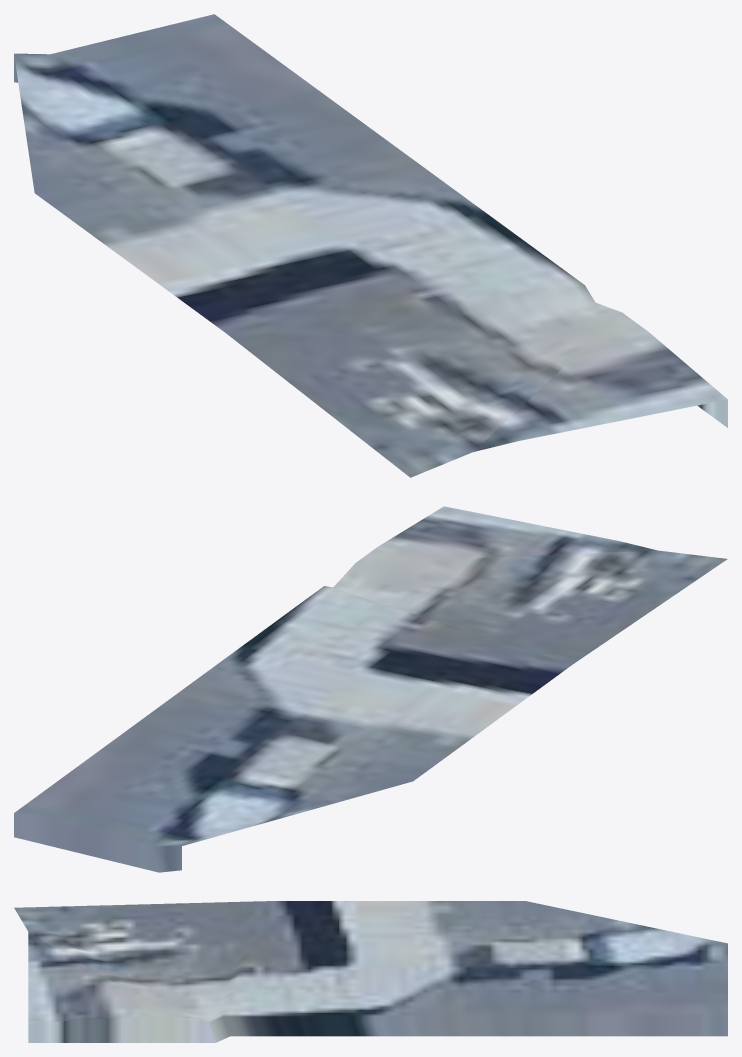
3 renders of one model, top to bottom at view 1: azimuth 30°, elevation 25°; view 2: azimuth 150°, elevation 25°; view 3: azimuth 270°, elevation 25°, orthographic. The views are drawn at different scales.
Visible parts, largest first — view 1: 30436272704370605532_0; view 2: 30436272704370605532_0; view 3: 30436272704370605532_0.
Part boxes in pixels (<box>): 30436272704370605532_0: <box>14,14,727,477</box>; 30436272704370605532_0: <box>14,506,727,872</box>; 30436272704370605532_0: <box>14,901,727,1042</box>.
Bounding box in the file's own units: 5.53 × 0.7712 × 15.27.
1 material, 1 textured.
